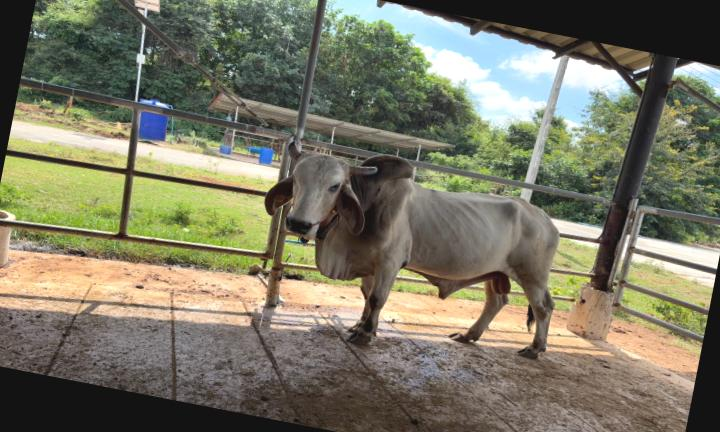Brahman: (265, 142, 558, 357)
